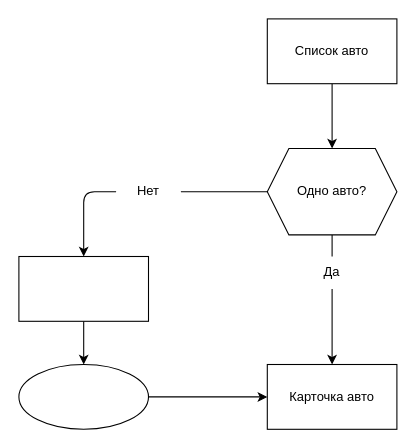
This 416x448 diagram has some shape labels left out. The centre of each missing label's shape, as x and y in pixels:
Выбрали авто: pixel 83 396
Список авто для выбора: pixel 83 288
